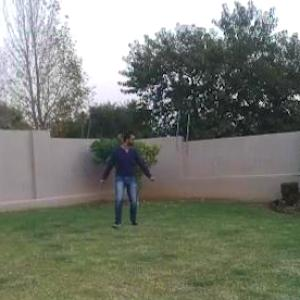land: (79, 112, 161, 242)
